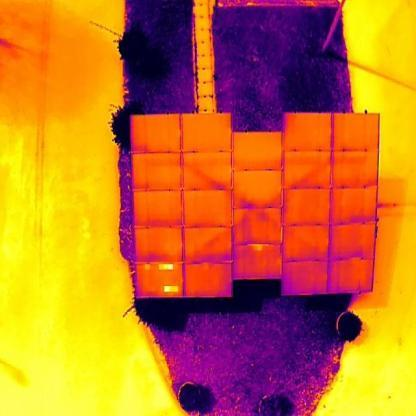anomaly: (162, 284, 180, 294), (157, 263, 175, 272), (144, 264, 152, 273)
